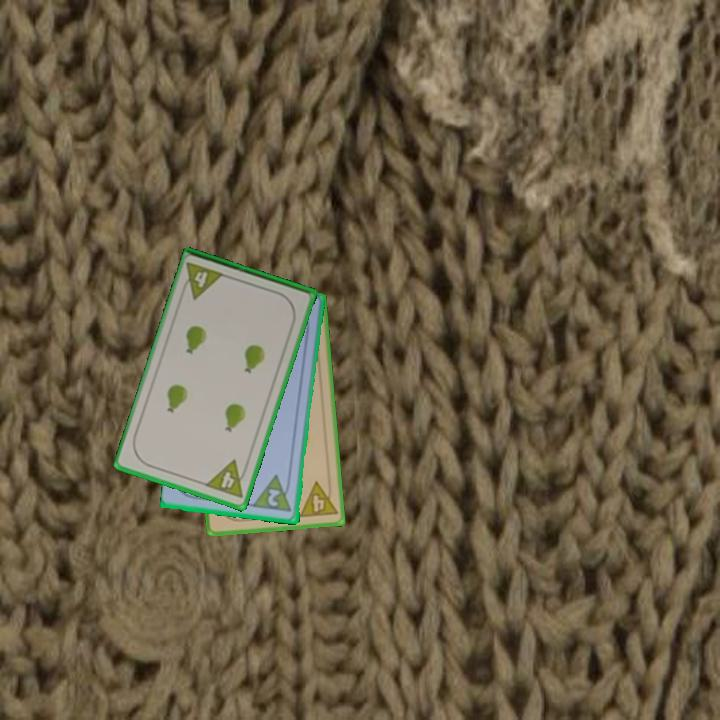2p: (251, 472, 295, 515)
4p: (202, 456, 252, 502), (177, 259, 228, 302), (296, 477, 340, 520)
